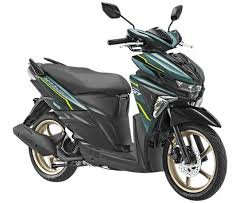motor: (8, 1, 230, 198)
